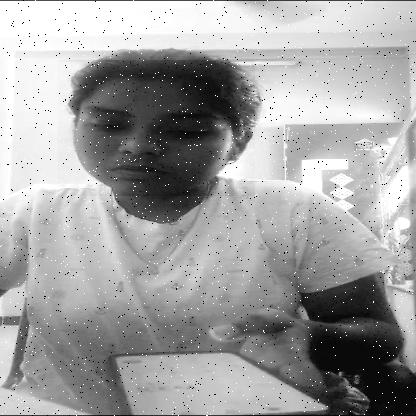Normal: (58, 60, 255, 196)
